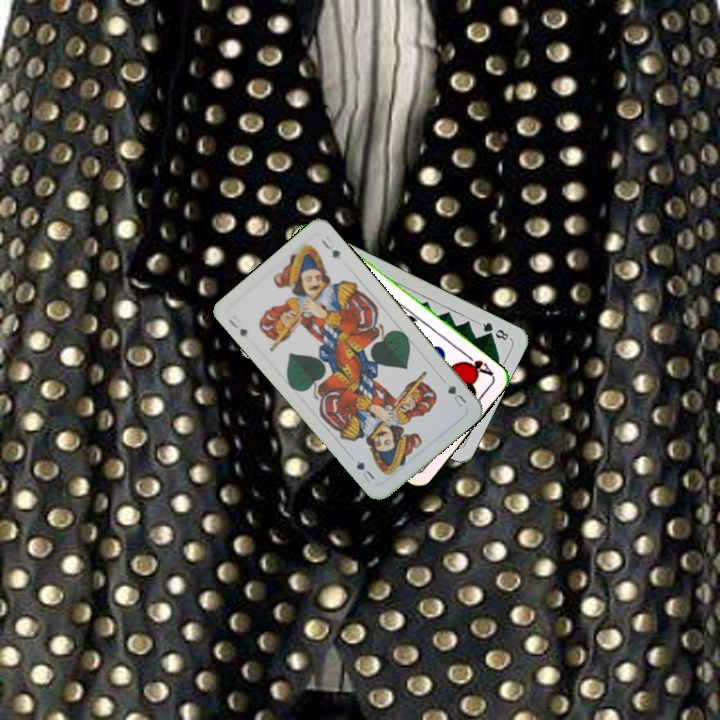G8: (475, 318, 513, 343)
GU: (443, 380, 469, 410), (224, 311, 250, 339)
HA: (458, 349, 496, 378)
